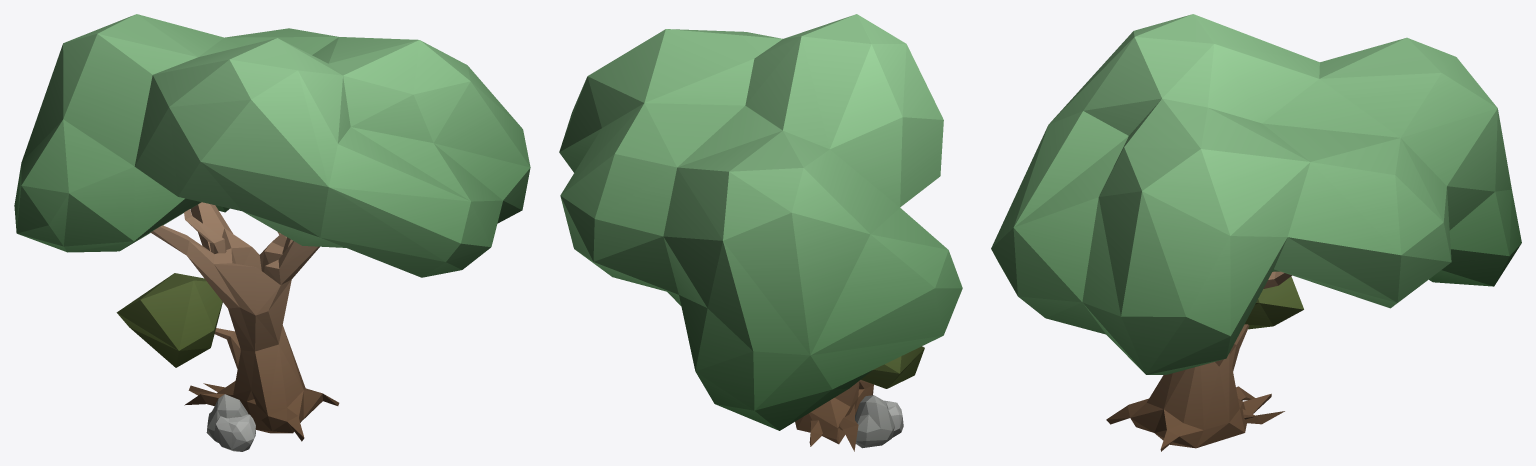
File: agac.fbx
The picture shows the model from 3 angles, left to right: view 1: azimuth 30°, elevation 25°; view 2: azimuth 150°, elevation 25°; view 3: azimuth 270°, elevation 25°; orthographic projection. The views are drawn at different scales.
Parts seen in each view (by area): view 1: Mountain-2.005; view 2: Mountain-2.005; view 3: Mountain-2.005.
Boxes of the visible parts, x1=… form: Mountain-2.005: x1=14, y1=14, x2=530, y2=451; Mountain-2.005: x1=559, y1=14, x2=962, y2=451; Mountain-2.005: x1=991, y1=14, x2=1521, y2=451.
Bounding box in the file's own units: 2928 × 2494 × 2882.
